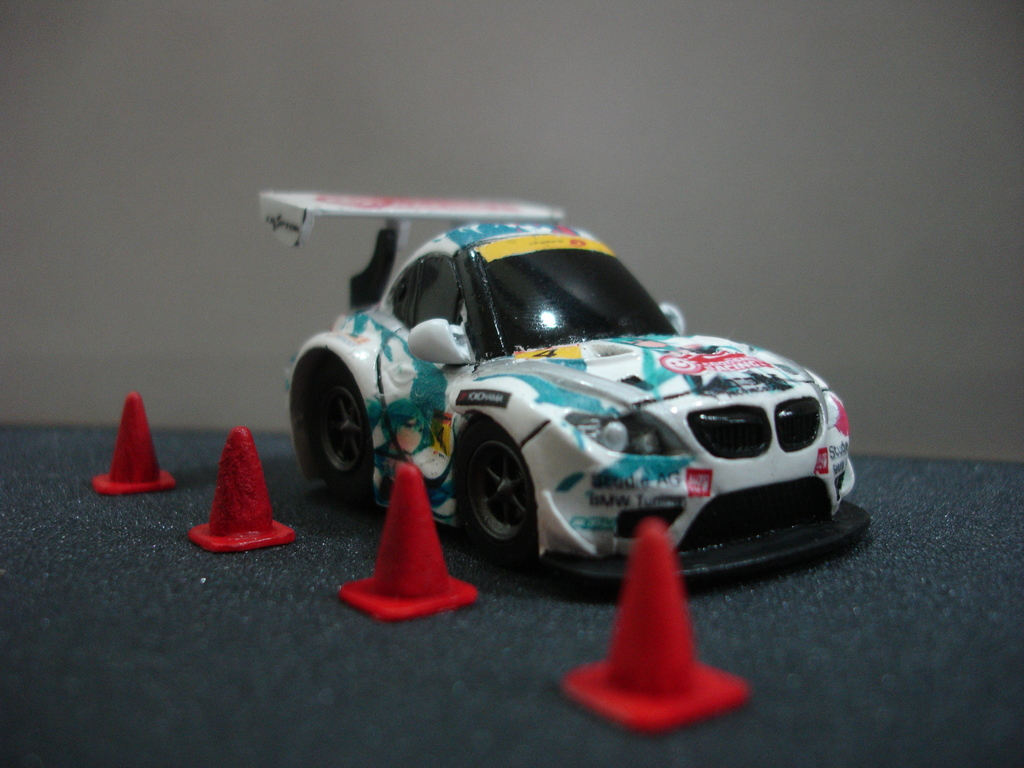Car: (266, 196, 869, 578)
